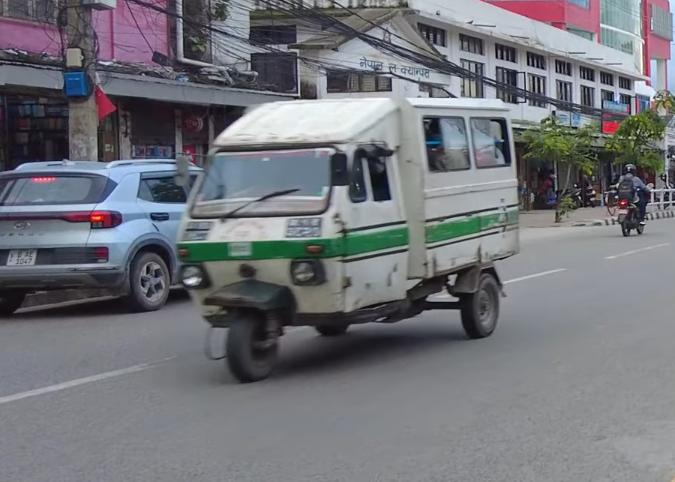bike: (613, 181, 654, 239)
car: (0, 157, 216, 315)
tempo: (172, 79, 537, 386)
